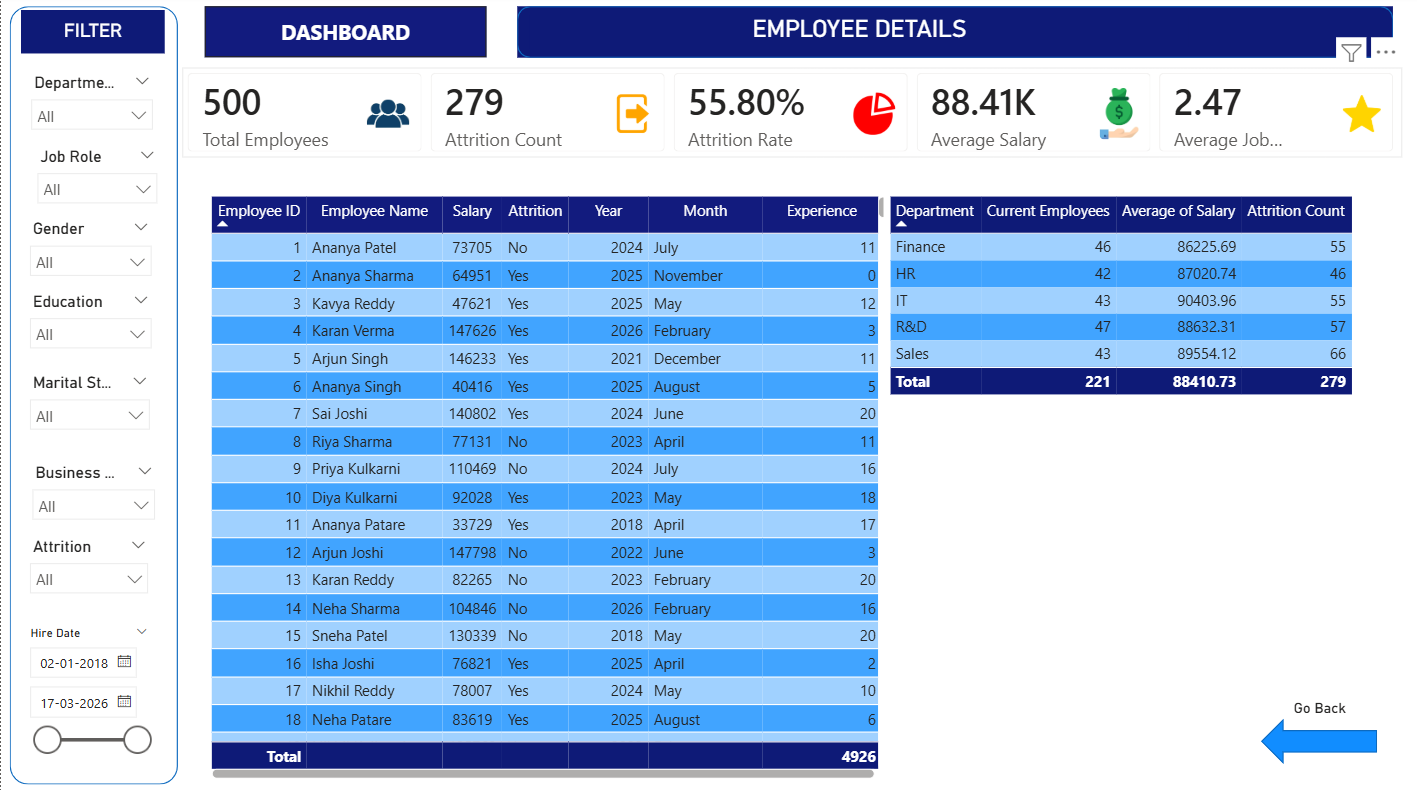

What the dashboard file says about the page in this screenshot:
{"tool":"powerbi","page":{"name":"EMPLOYEE DETAILS","canvas":[1280,720],"ordinal":1},"visuals":[{"type":"shape","box":[465.9,9.8,789.9,46.5],"z":0},{"type":"shape","box":[7.3,9.8,151.6,701.9],"z":1000},{"type":"cardVisual","fields":{"Data":["HR Data.Total Employee","HR Data.Attribution Count","HR Data.Attrition Rate","Avg(HR Data.Salary)","Avg(HR Data.Job Satisfaction)"]},"box":[163.9,64.8,1099.3,81.9],"z":2000},{"type":"textbox","title":"FILTER","box":[18.3,14,129.6,39.1],"z":3000},{"type":"slicer","fields":{"Values":["HR Data.Department"]},"box":[17.1,64.8,129.6,67.3],"z":4000},{"type":"slicer","fields":{"Values":["HR Data.Job Role"]},"box":[22,132.1,128.4,64.8],"z":5000},{"type":"slicer","fields":{"Values":["HR Data.Gender"]},"box":[15.9,196.9,129.6,66],"z":6000},{"type":"slicer","fields":{"Values":["HR Data.Education"]},"box":[15.9,262.9,129.6,73.4],"z":7000},{"type":"slicer","fields":{"Values":["HR Data.Marital Status"]},"box":[15.9,336.3,128.4,62.4],"z":8000},{"type":"slicer","fields":{"Values":["HR Data.Business Travel"]},"box":[18.3,417,130.8,57.5],"z":9000},{"type":"slicer","fields":{"Values":["HR Data.Attrition"]},"box":[15.9,483,127.2,67.3],"z":10000},{"type":"slicer","fields":{"Values":["HR Data.Hire Date"]},"box":[13.5,563.7,130.8,128.4],"z":11000},{"type":"textbox","title":"EMPLOYEE DETAILS","box":[476.9,18.3,594.3,30.6],"z":12000},{"type":"tableEx","fields":{"Values":["HR Data.Employee ID","HR Data.Employee Name","HR Data.Salary","HR Data.Attrition","Custome Date.Custom Date.Variation.Date Hierarchy.Year","Custome Date.Custom Date.Variation.Date Hierarchy.Month","Sum(HR Data.Experience)"]},"box":[183.7,176.7,620.9,534.9],"z":13000},{"type":"pageNavigator","box":[183.4,9.8,254.3,46.5],"z":14000},{"type":"tableEx","fields":{"Values":["HR Data.Department","HR Data.Current Employees","Avg(HR Data.Salary)","HR Data.Attrition Count"]},"box":[795.4,176.7,467.4,190.7],"z":15000},{"type":"shape","box":[1136,652.3,104.7,40.7],"z":16000},{"type":"textbox","title":"Go Back","box":[1129.1,636,119.8,16.3],"z":17000}]}

Visuals, with their boxes in screenshot pixels (x1, y1, x2, y2), scaled from the page's 1280x720 canvas onto the 1417x792 screenshot:
shape: [516, 11, 1390, 62]
shape: [8, 11, 176, 783]
cardVisual - HR Data.Total Employee x HR Data.Attribution Count: [181, 71, 1398, 161]
"FILTER" textbox: [20, 15, 164, 58]
slicer - HR Data.Department: [19, 71, 162, 145]
slicer - HR Data.Job Role: [24, 145, 166, 217]
slicer - HR Data.Gender: [18, 217, 161, 289]
slicer - HR Data.Education: [18, 289, 161, 370]
slicer - HR Data.Marital Status: [18, 370, 160, 439]
slicer - HR Data.Business Travel: [20, 459, 165, 522]
slicer - HR Data.Attrition: [18, 531, 158, 605]
slicer - HR Data.Hire Date: [15, 620, 160, 761]
"EMPLOYEE DETAILS" textbox: [528, 20, 1186, 54]
tableEx - HR Data.Employee ID x HR Data.Employee Name: [203, 194, 891, 783]
pageNavigator: [203, 11, 485, 62]
tableEx - HR Data.Department x HR Data.Current Employees: [881, 194, 1398, 404]
shape: [1258, 718, 1373, 762]
"Go Back" textbox: [1250, 700, 1383, 718]
